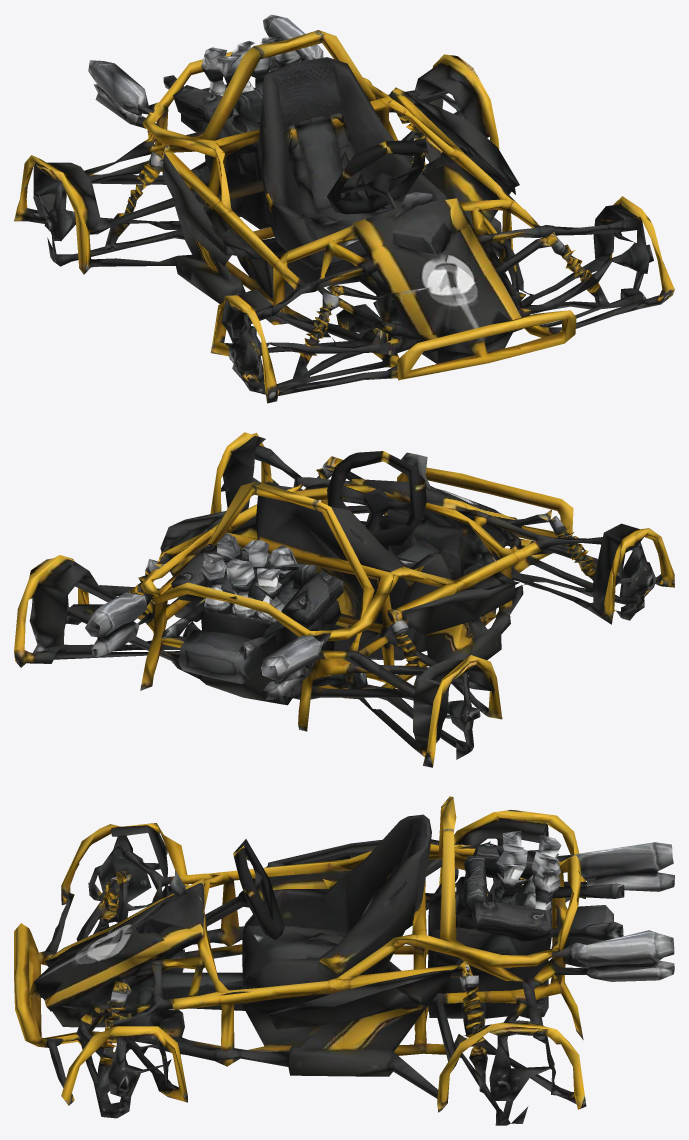
Rendered from body.glb.
3 views of the same model, one above another, from view 1: azimuth 30°, elevation 25°; view 2: azimuth 150°, elevation 25°; view 3: azimuth 270°, elevation 25° (orthographic). The views are drawn at different scales.
Parts seen in each view (by area): view 1: tripo_node_11dc6b02-293b-4ce9-8b5d-3cd331159645; view 2: tripo_node_11dc6b02-293b-4ce9-8b5d-3cd331159645; view 3: tripo_node_11dc6b02-293b-4ce9-8b5d-3cd331159645.
Part boxes in pixels (left/top/right/bottom): tripo_node_11dc6b02-293b-4ce9-8b5d-3cd331159645: left=14, top=14, right=674, bottom=403; tripo_node_11dc6b02-293b-4ce9-8b5d-3cd331159645: left=14, top=432, right=674, bottom=767; tripo_node_11dc6b02-293b-4ce9-8b5d-3cd331159645: left=14, top=796, right=674, bottom=1125.
Bounding box in the file's own units: 0.7987 × 0.3604 × 0.9996.
1 material, 1 textured.
